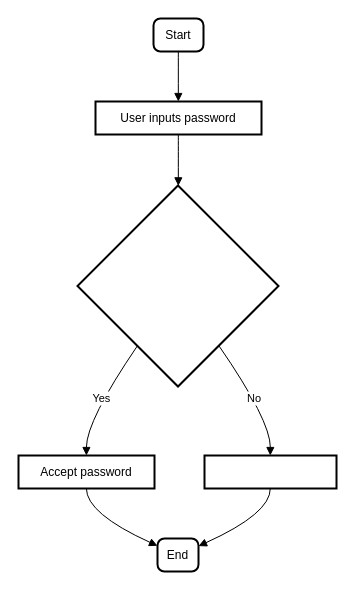
The diagram is 354 pixels wide and 589 high, and some of its shapes have lost their labels. The box of each missing label's shape, as (x1, y1, x2, y2) in pixels:
Is password complex?: (76, 184, 279, 387)
Reject password: (203, 454, 337, 489)
